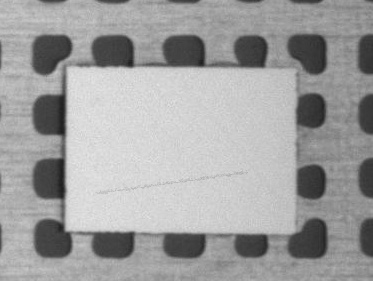DIE_CRACK: (129, 130, 328, 145)
